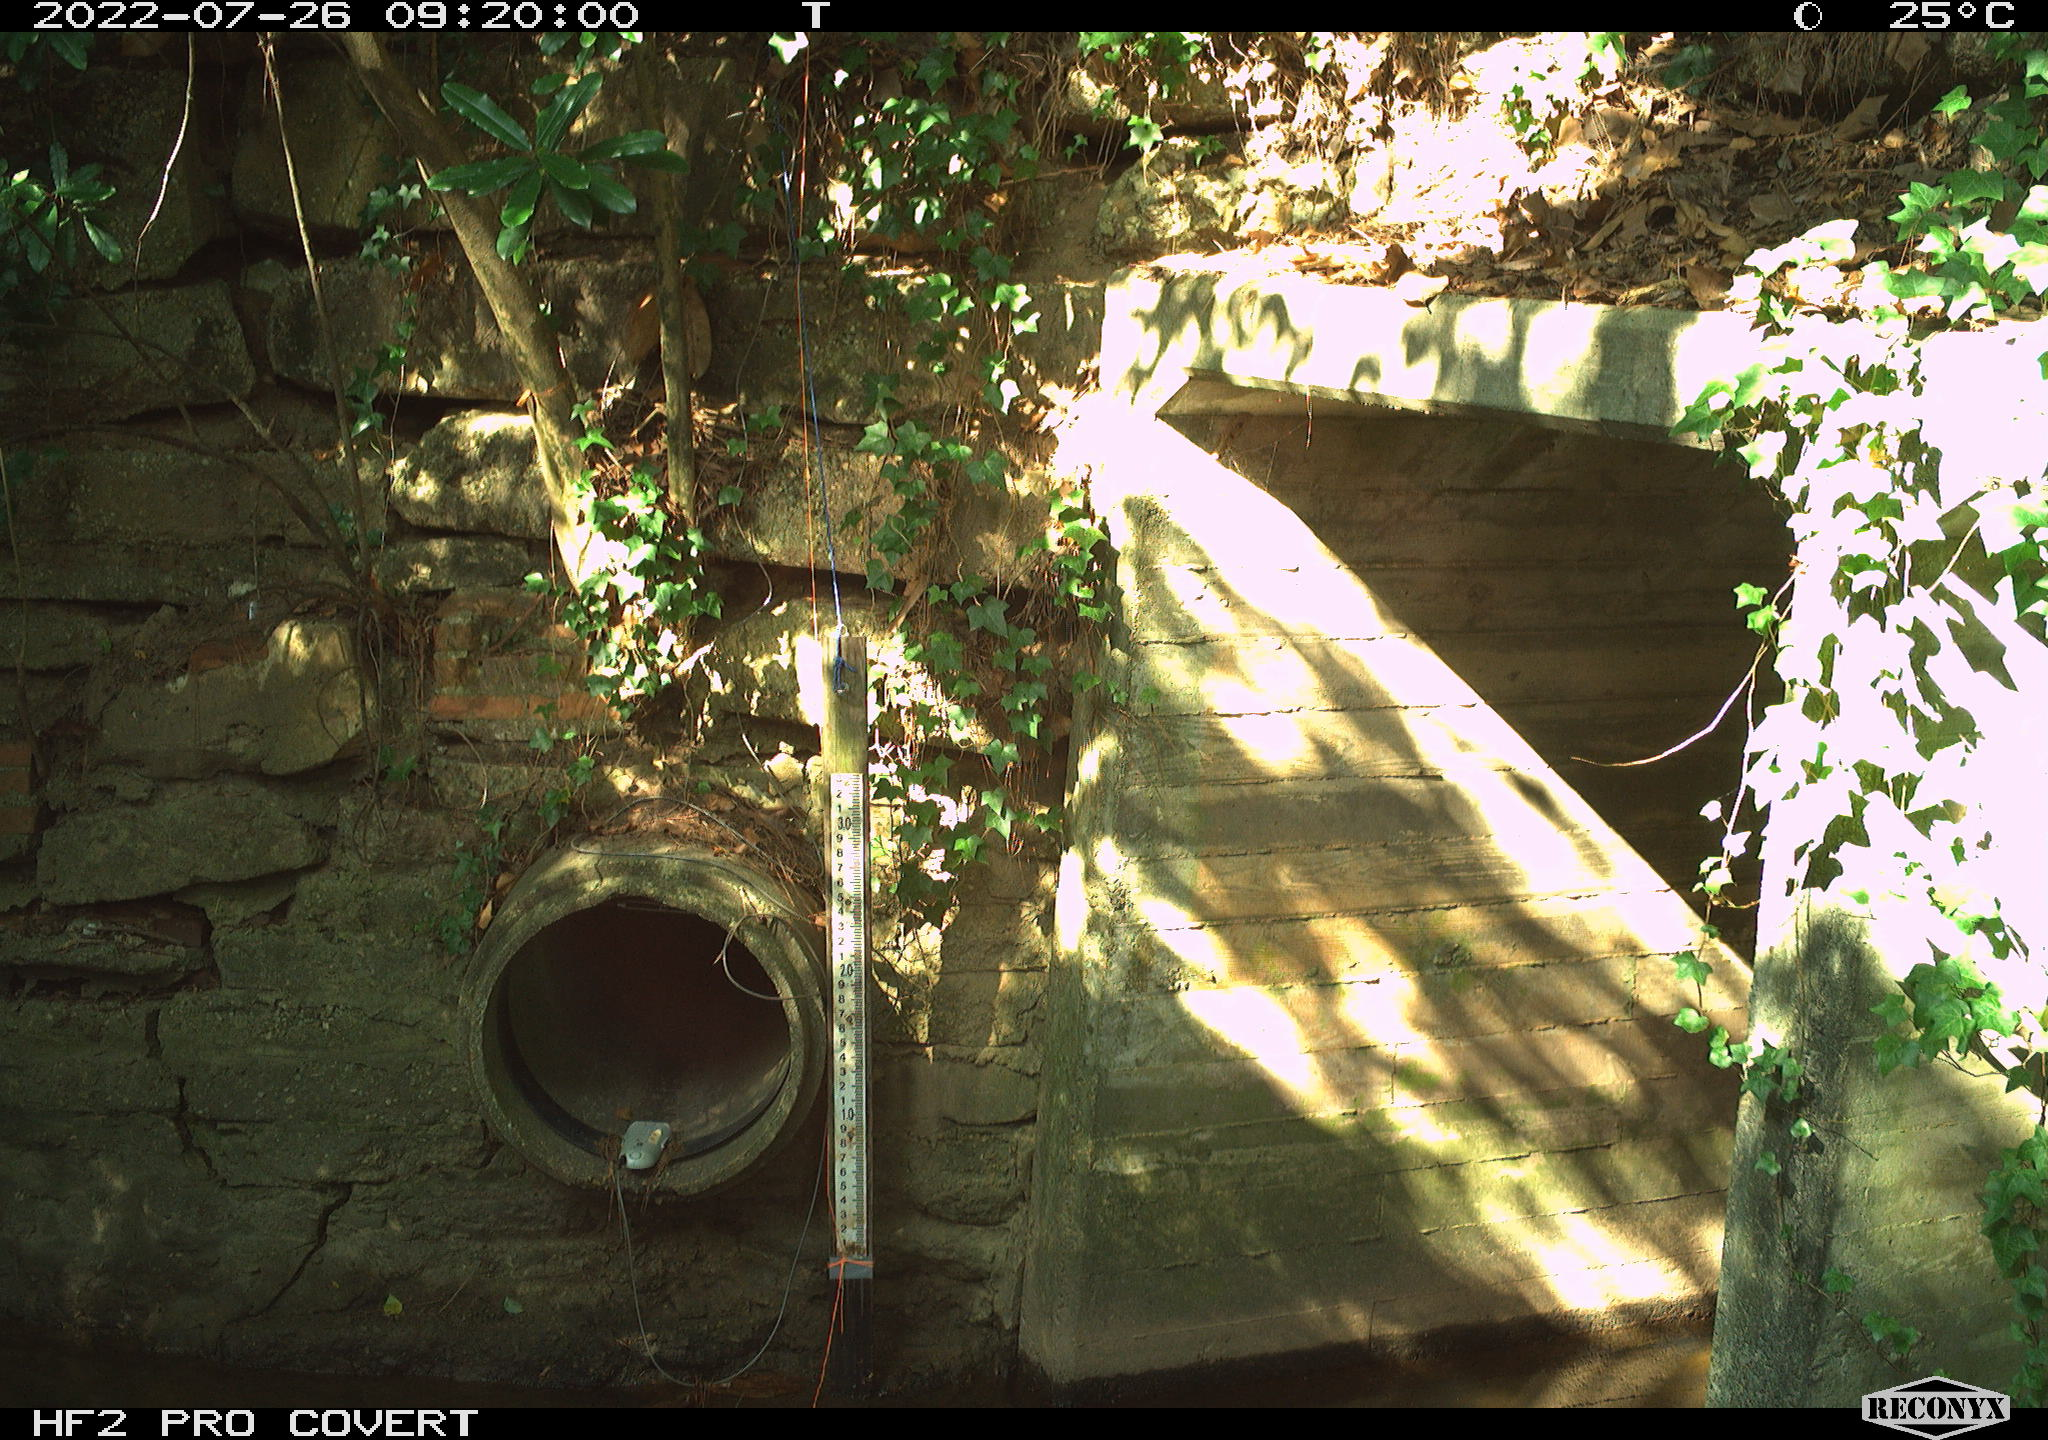Empty Outlet: (483, 905, 792, 1188)
